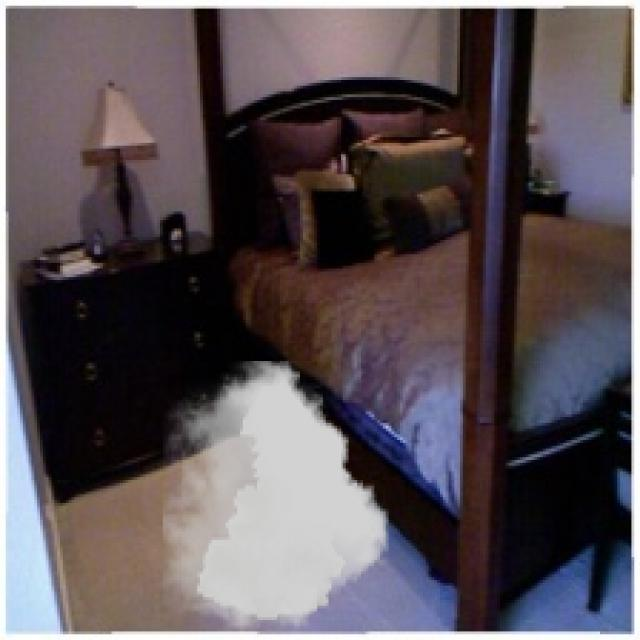smoke: (163, 360, 388, 631)
